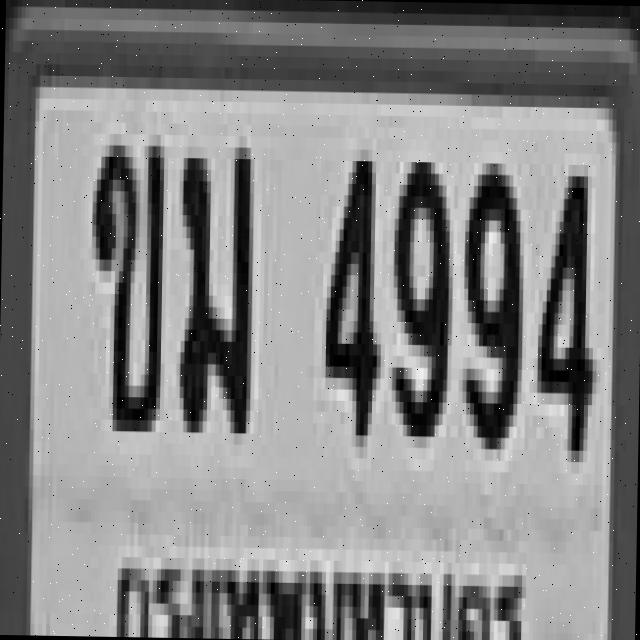11KhorKhai: (84, 133, 160, 420)
4: (532, 152, 592, 450), (320, 137, 376, 435)
42MorMa: (175, 134, 250, 422)
9: (458, 152, 518, 438), (386, 150, 446, 424)
